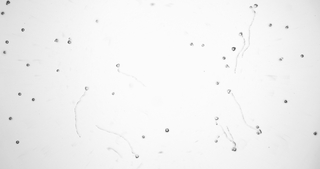germinated: (225, 87, 232, 99), (115, 62, 123, 72), (81, 85, 89, 95), (231, 141, 238, 152), (130, 150, 139, 158), (251, 2, 258, 12), (237, 30, 244, 39), (213, 115, 220, 123)
nongerminated: (163, 126, 170, 134), (311, 129, 318, 136), (16, 90, 23, 97), (140, 133, 146, 141), (66, 37, 72, 45), (284, 23, 290, 30), (298, 52, 304, 59), (230, 45, 237, 51), (200, 42, 207, 48), (224, 62, 230, 69), (53, 36, 59, 43), (54, 67, 61, 73), (19, 26, 25, 33), (3, 39, 9, 46), (29, 96, 36, 102), (7, 114, 13, 121), (14, 138, 20, 145), (267, 22, 273, 28), (278, 56, 284, 62), (282, 98, 288, 104), (221, 54, 227, 60), (215, 79, 221, 85), (213, 138, 219, 144), (110, 91, 116, 97), (189, 41, 195, 46), (25, 61, 30, 67), (4, 0, 10, 5), (1, 49, 7, 54), (255, 123, 260, 128), (0, 10, 5, 15), (255, 131, 260, 134)
